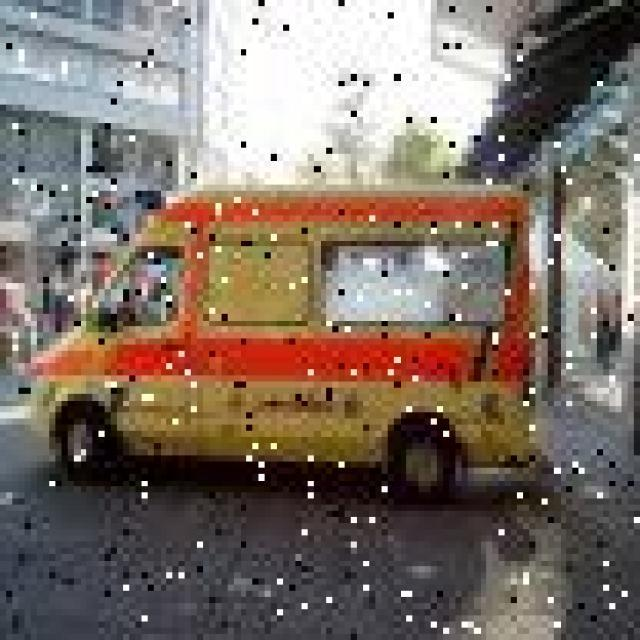emergency-vehicle: (22, 178, 544, 468)
